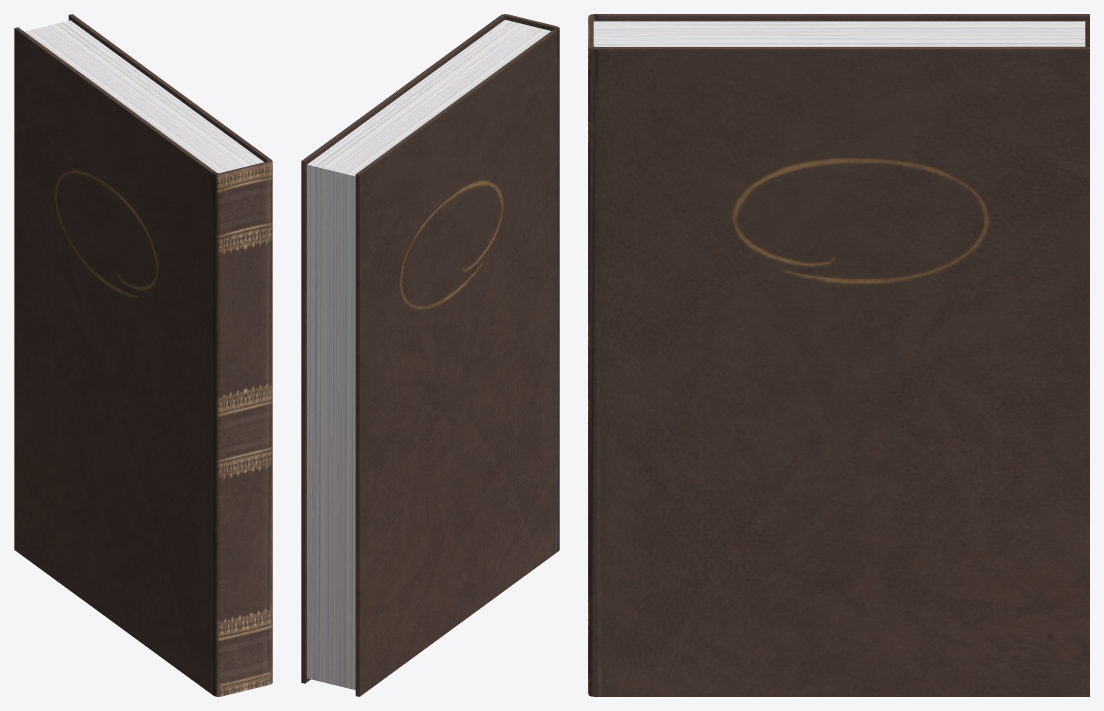
The model's file is RetroBooks01_2_1x.FBX.
The picture shows the model from 3 angles, left to right: view 1: azimuth 30°, elevation 25°; view 2: azimuth 150°, elevation 25°; view 3: azimuth 270°, elevation 25°; orthographic projection. The views are drawn at different scales.
Visible parts, largest first — view 1: RetroBooks01_2_1x; view 2: RetroBooks01_2_1x; view 3: RetroBooks01_2_1x.
Part boxes in pixels (x1=…): RetroBooks01_2_1x: x1=14, y1=14, x2=272, y2=696; RetroBooks01_2_1x: x1=301, y1=14, x2=559, y2=696; RetroBooks01_2_1x: x1=588, y1=14, x2=1089, y2=696.
Size of the model in its own units: 0.2636 by 2.26 by 1.59.
